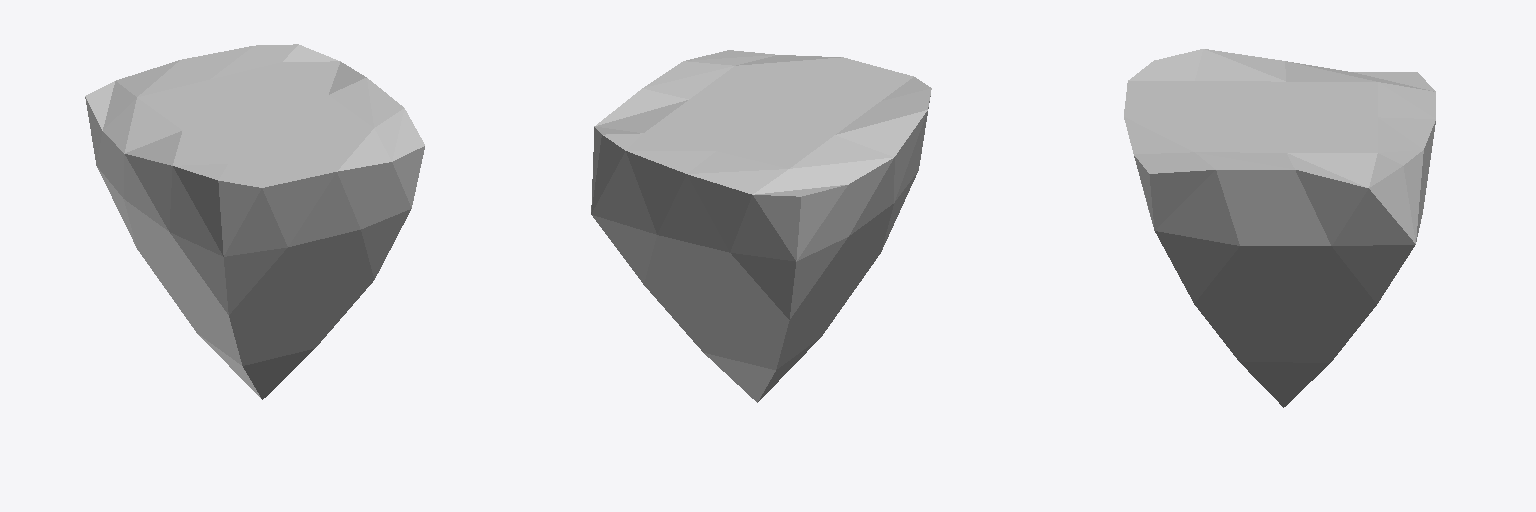
File: Zahn.obj
3 renders of one model, left to right at view 1: azimuth 30°, elevation 25°; view 2: azimuth 150°, elevation 25°; view 3: azimuth 270°, elevation 25°, orthographic.
Visible parts, largest first — view 1: Pyramide; view 2: Pyramide; view 3: Pyramide.
Part boxes in pixels (x1,y1,x2,y2): Pyramide: (85, 44, 424, 399); Pyramide: (591, 50, 931, 402); Pyramide: (1124, 49, 1435, 407).
Size of the model in its own units: 53.82 by 58.92 by 56.44.